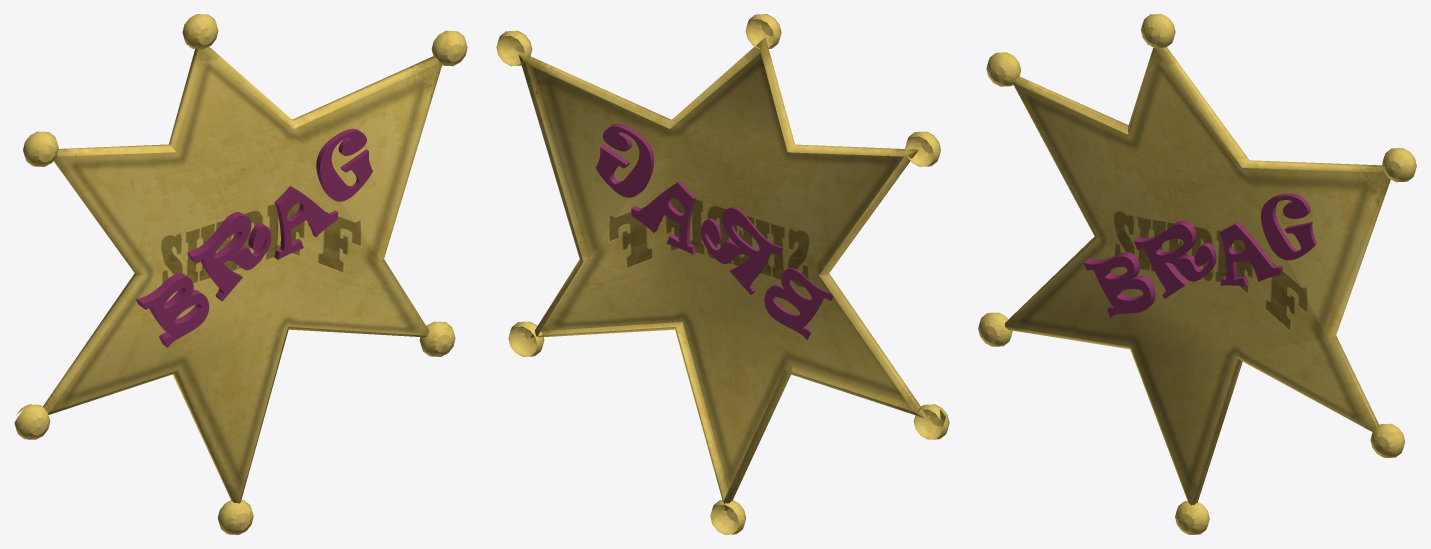
File: BADGE.fbx
The picture shows the model from 3 angles, left to right: view 1: azimuth 30°, elevation 25°; view 2: azimuth 150°, elevation 25°; view 3: azimuth 330°, elevation 25°; orthographic projection. The views are drawn at different scales.
Parts seen in each view (by area): view 1: group1; view 2: group1; view 3: group1.
Part boxes in pixels (left/top/right/bottom): group1: left=14, top=14, right=467, bottom=534; group1: left=496, top=14, right=949, bottom=534; group1: left=978, top=14, right=1416, bottom=534.
Bounding box in the file's own units: 1796 × 2014 × 90.51.
2 materials, 1 textured.
